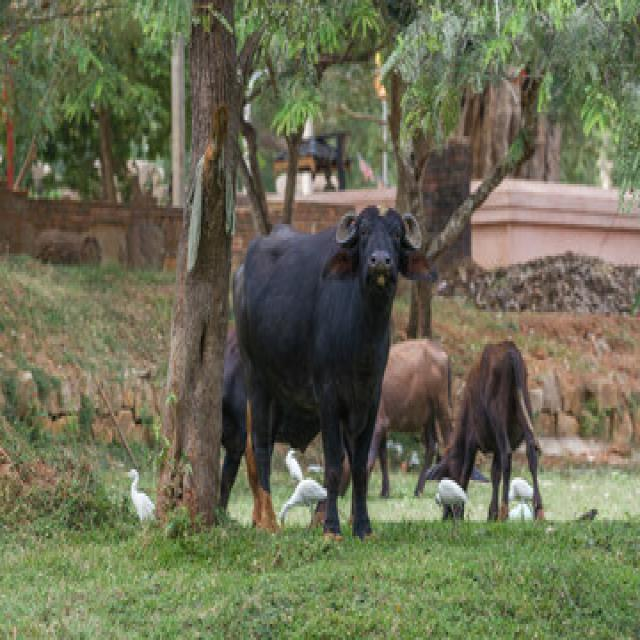Buffalo: (230, 200, 436, 541)
